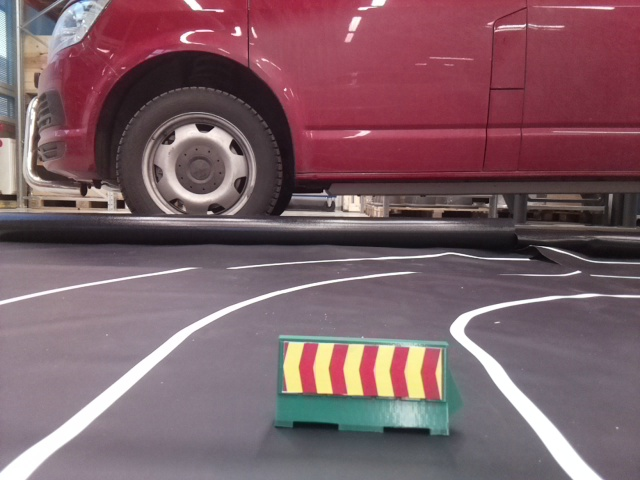ClosedRoadStand: (279, 335, 451, 435)
